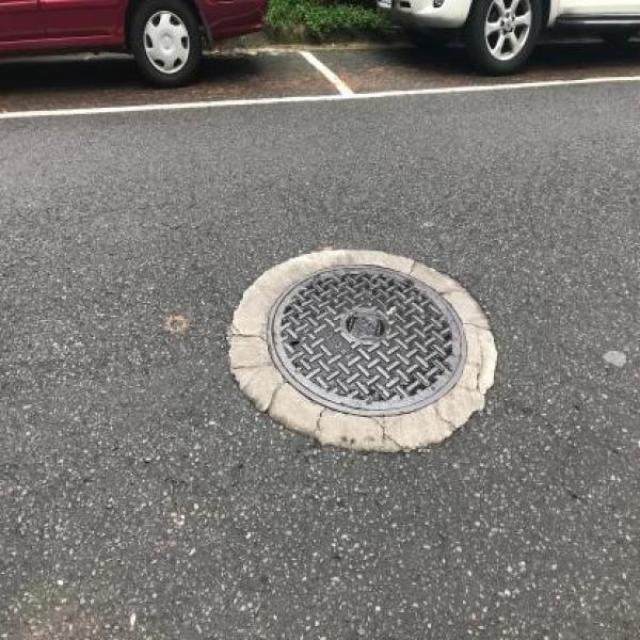Good: (254, 259, 476, 422)
